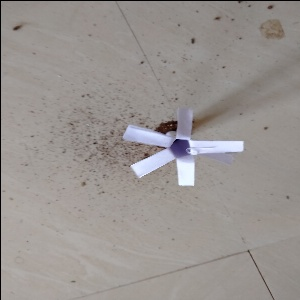weed: (122, 108, 236, 185)
